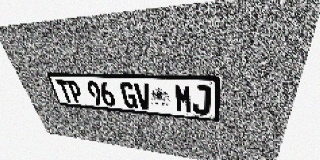6: (97, 81, 116, 107)
9: (85, 81, 104, 105)
G: (119, 82, 138, 109)
J: (192, 85, 211, 115)
M: (174, 84, 192, 113)
P: (66, 80, 85, 104)
T: (55, 80, 74, 103)
V: (134, 83, 152, 110)
